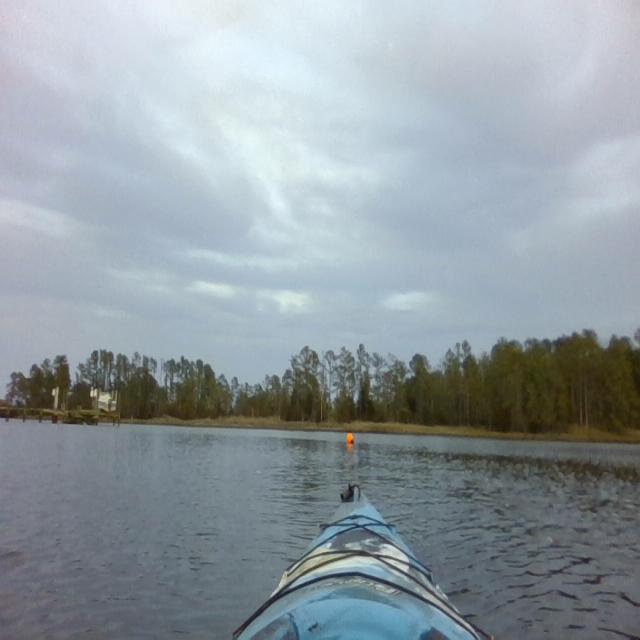Buoy: (346, 431, 355, 446)
